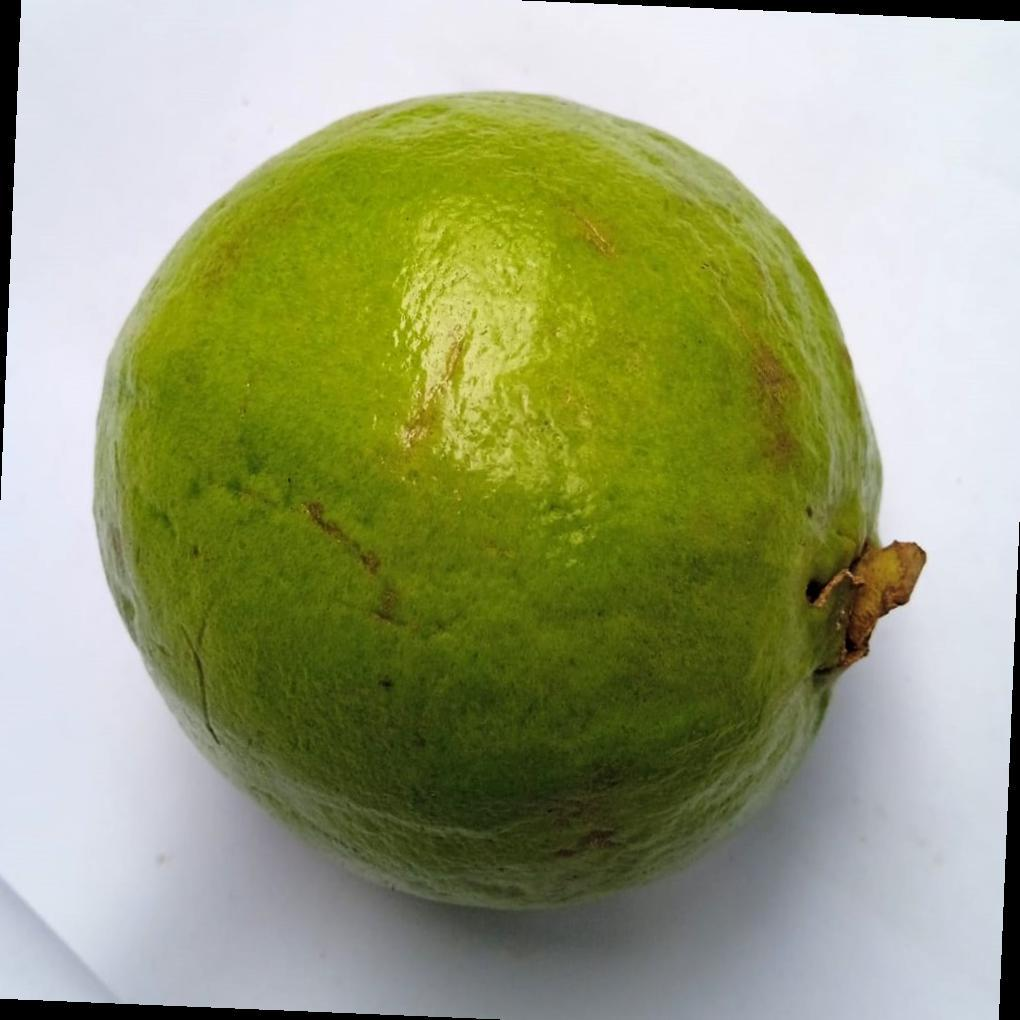FreshGuava: (88, 91, 926, 917)
